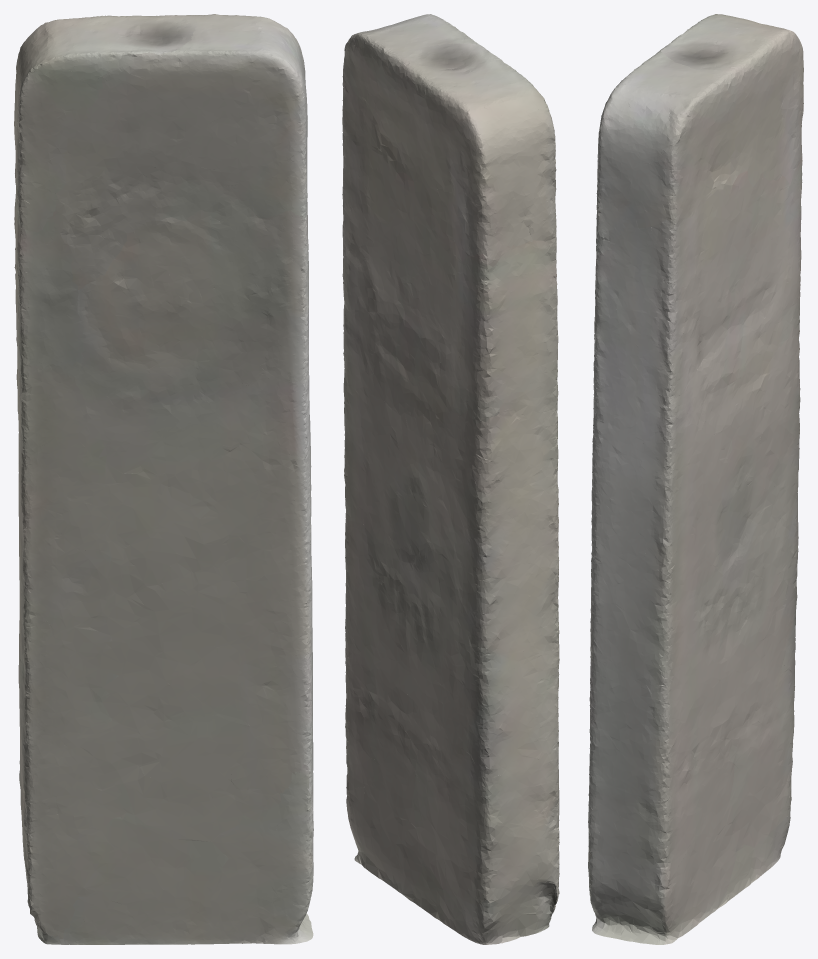
3 renders of one model, left to right at view 1: azimuth 30°, elevation 25°; view 2: azimuth 150°, elevation 25°; view 3: azimuth 270°, elevation 25°, orthographic. The views are drawn at different scales.
Size of the model in its own units: 0.0373 by 0.123 by 0.0288.
1 material, 1 textured.
